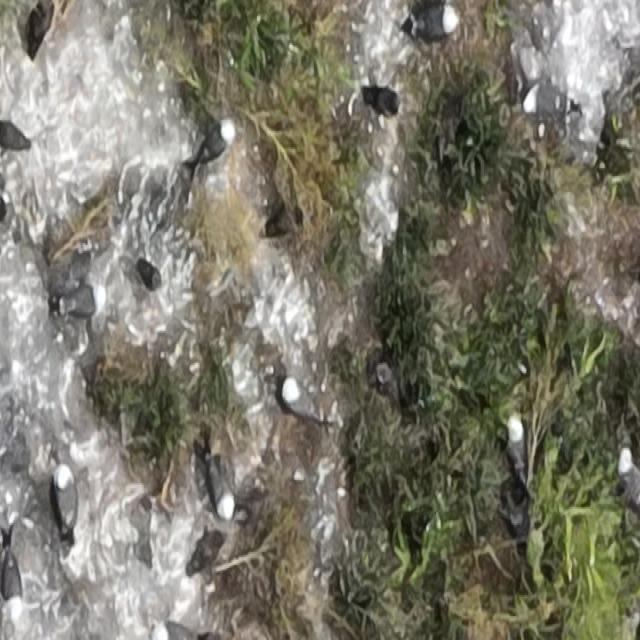umineko: (282, 378, 322, 426), (207, 458, 236, 522), (197, 120, 233, 162), (60, 284, 107, 316), (525, 88, 576, 114), (618, 448, 639, 507), (55, 476, 76, 528), (417, 10, 456, 34), (507, 420, 523, 460)
